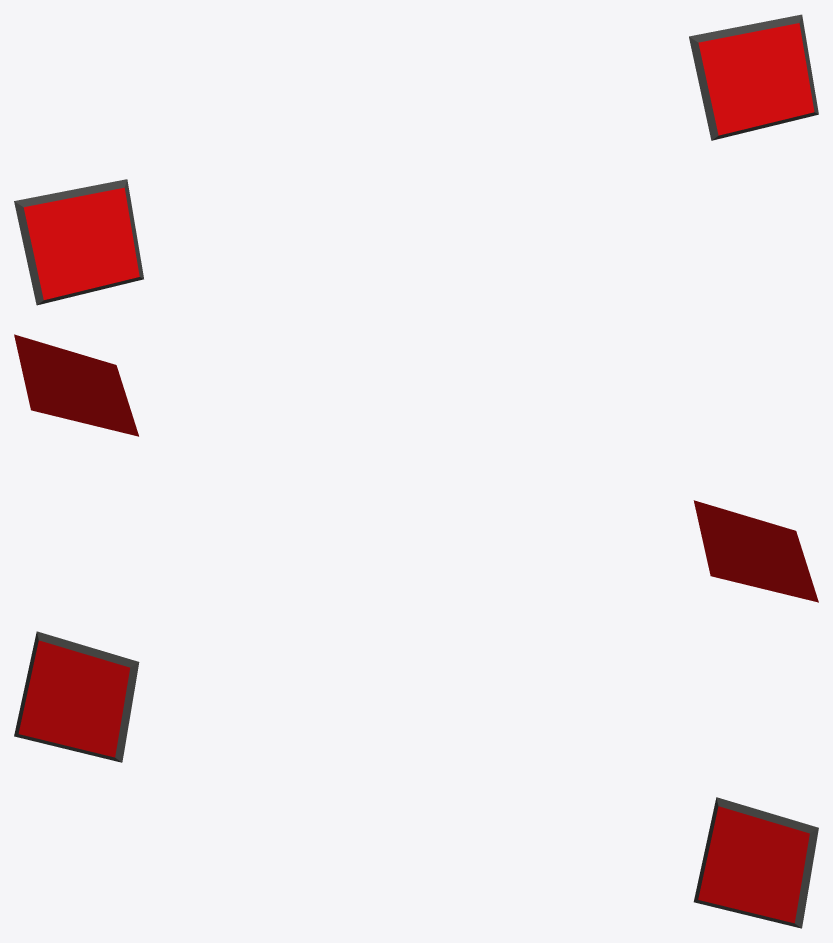
Rendered from robadorluces.fbx.
3 renders of one model, top to bottom at view 1: azimuth 30°, elevation 25°; view 2: azimuth 150°, elevation 25°; view 3: azimuth 330°, elevation 25°, orthographic.
Parts seen in each view (by area): view 1: Plane, Plane.002; view 2: Plane.002, Plane; view 3: Plane, Plane.002.
Part boxes in pixels (x1,y1,x2,y2): Plane: [689, 14, 818, 140]; Plane.002: [14, 179, 143, 305]; Plane.002: [693, 500, 818, 602]; Plane: [14, 334, 138, 436]; Plane: [693, 797, 818, 928]; Plane.002: [14, 631, 139, 762].
Size of the model in its own units: 303 by 32.54 by 16.1.
